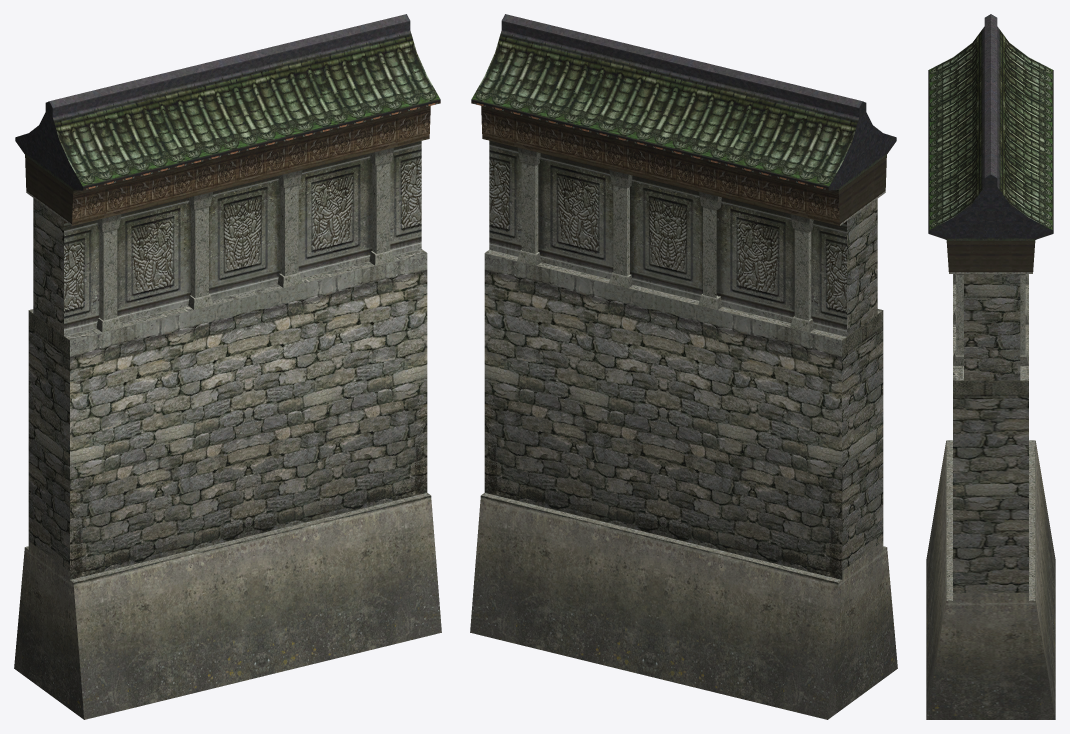
The model's file is c1-middledam-03.fbx.
3 views of the same model, side by side, from view 1: azimuth 30°, elevation 25°; view 2: azimuth 150°, elevation 25°; view 3: azimuth 270°, elevation 25° (orthographic). The views are drawn at different scales.
Parts seen in each view (by area): view 1: b1-middledam-03; view 2: b1-middledam-03; view 3: b1-middledam-03.
Part boxes in pixels (box(x1,y1,x2,y2)): b1-middledam-03: box(14, 14, 441, 719); b1-middledam-03: box(470, 14, 897, 719); b1-middledam-03: box(926, 14, 1055, 719).
Bounding box in the file's own units: 5 × 7.92 × 1.7.
